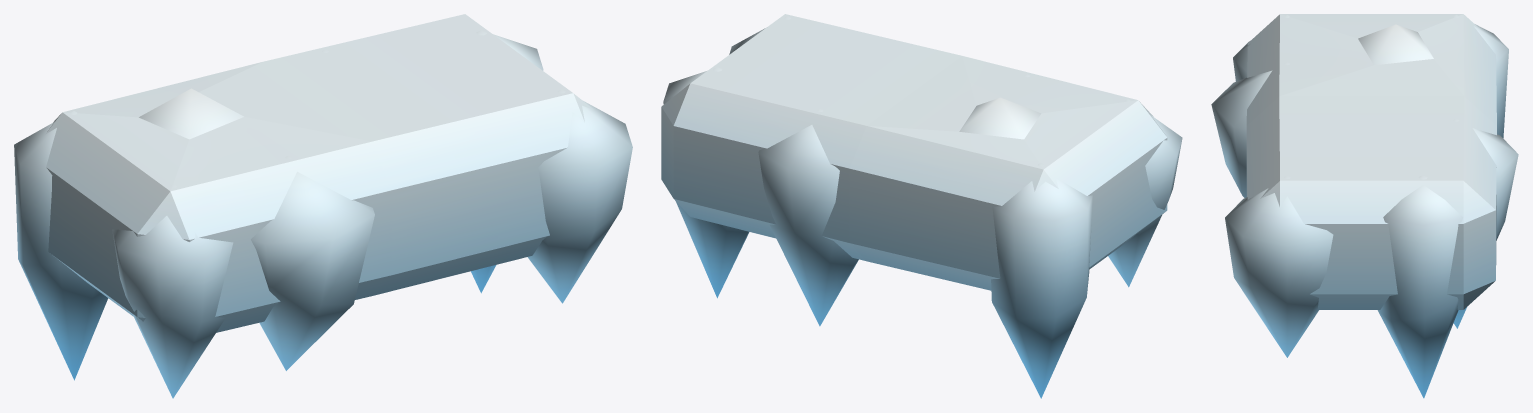
Rendered from m_deco_floorSnow_brick.FBX.
3 views of the same model, side by side, from view 1: azimuth 30°, elevation 25°; view 2: azimuth 150°, elevation 25°; view 3: azimuth 270°, elevation 25° (orthographic). The views are drawn at different scales.
Visible parts, largest first — view 1: m_deco_floorSnow_brick; view 2: m_deco_floorSnow_brick; view 3: m_deco_floorSnow_brick.
Boxes of the visible parts, box(x1,y1,x2,y2) form: m_deco_floorSnow_brick: box(14, 14, 632, 398); m_deco_floorSnow_brick: box(661, 14, 1182, 398); m_deco_floorSnow_brick: box(1211, 14, 1518, 398).
Size of the model in its own units: 2.35 by 1.32 by 1.45.
